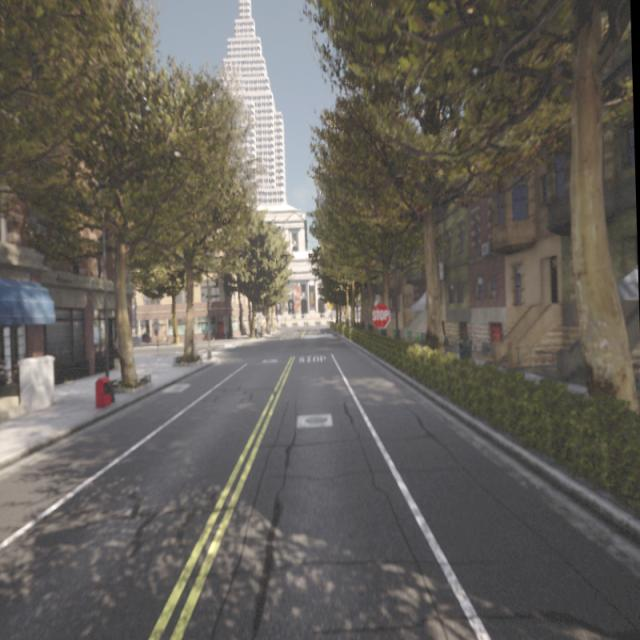stop sign: (370, 298, 392, 330)
